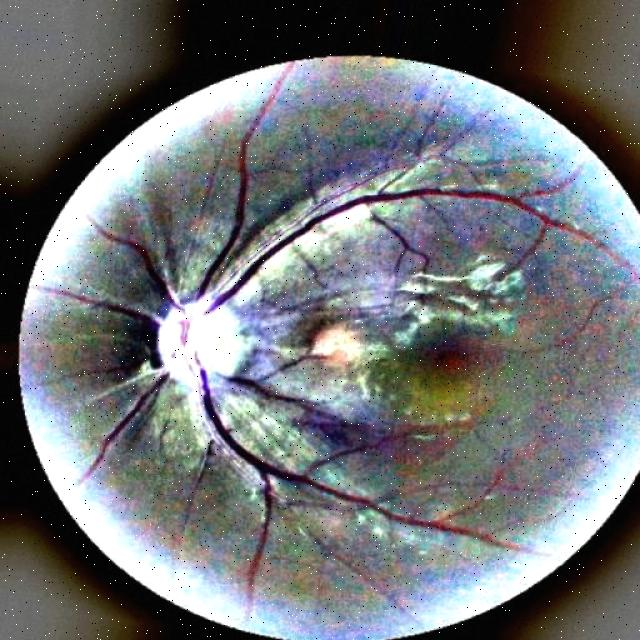Macula: (412, 327, 496, 391)
Nerves: (193, 368, 533, 605), (65, 91, 280, 371), (220, 186, 593, 297)
Optic Disk: (148, 278, 281, 423)
